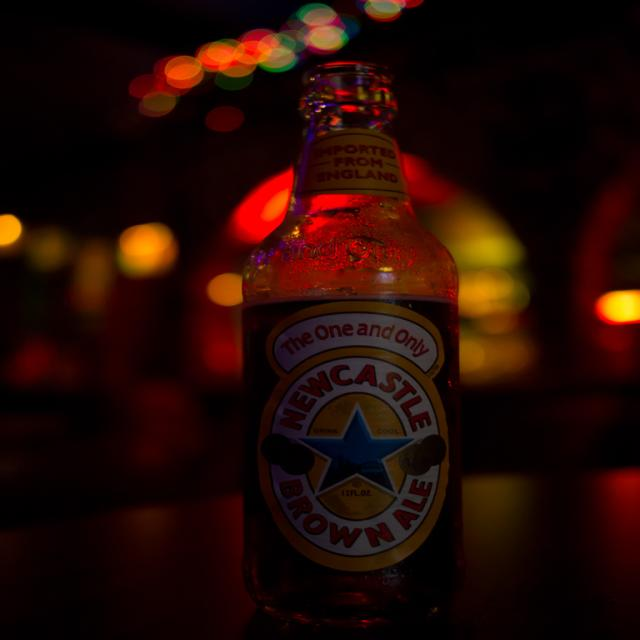Bottle: (220, 49, 477, 622)
